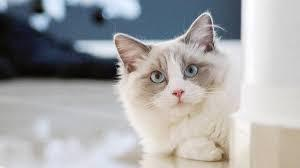ragdoll: (111, 8, 231, 126)
